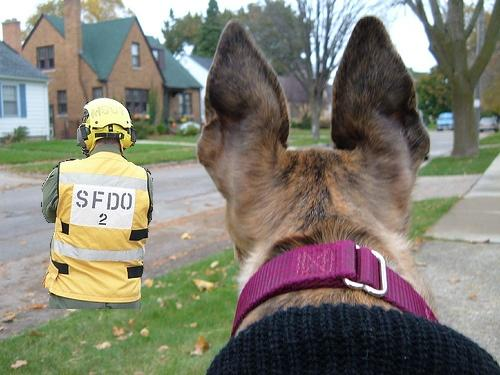tampered: (42, 98, 153, 309)
